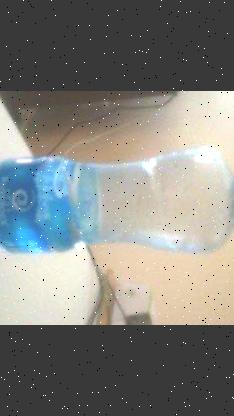Plastic Bottle: (0, 148, 234, 253)
